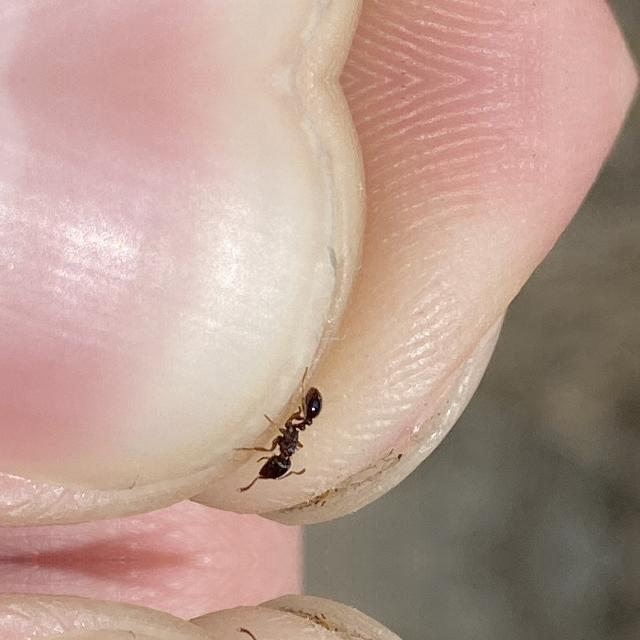Tetramorium: (233, 386, 337, 486)
